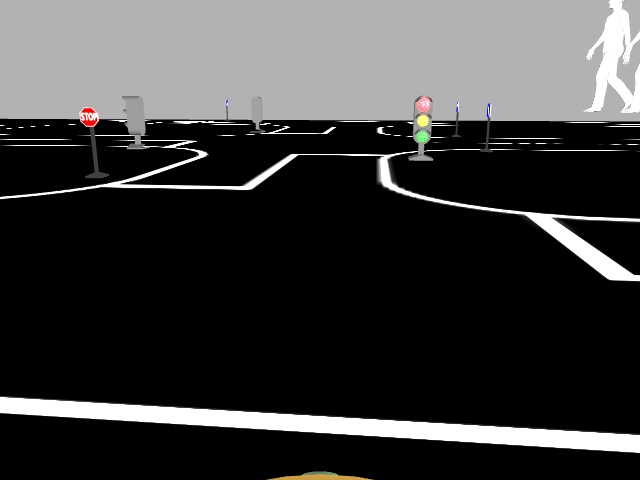Stop: (78, 105, 98, 126)
TrafficLight: (412, 93, 433, 145)
